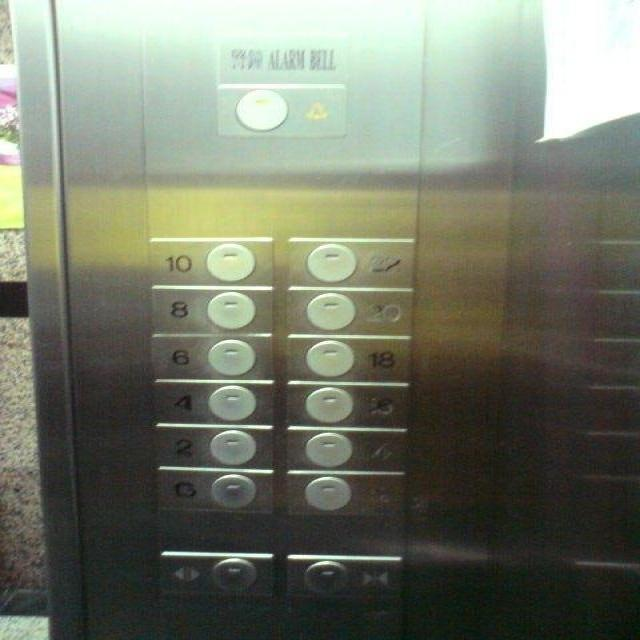10: (144, 235, 276, 287)
18: (283, 330, 413, 384)
2: (148, 418, 276, 471)
20: (281, 282, 415, 338)
22: (277, 232, 416, 285)
4: (147, 374, 277, 428)
6: (145, 329, 276, 382)
8: (145, 280, 275, 335)
G: (151, 463, 276, 516)
alarm: (211, 80, 349, 140)
blur: (283, 377, 412, 431), (281, 422, 411, 474), (282, 466, 409, 518)
close: (283, 552, 404, 603)
open: (152, 547, 276, 602)
